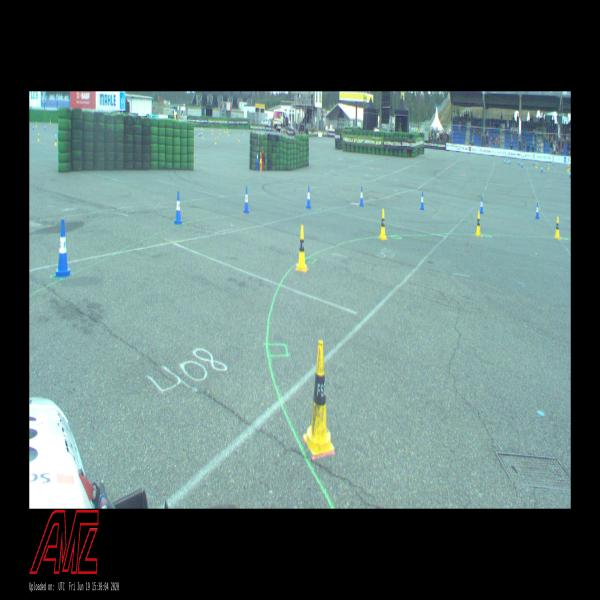blue_cone: (56, 220, 70, 277), (174, 191, 182, 224), (244, 187, 250, 213), (359, 186, 364, 205), (306, 186, 310, 208), (480, 196, 484, 214), (420, 192, 424, 210), (536, 202, 540, 219), (256, 151, 259, 164), (44, 124, 46, 130), (55, 132, 57, 138), (504, 158, 506, 163), (518, 160, 520, 165), (522, 160, 523, 167), (553, 159, 554, 165), (241, 128, 242, 134), (33, 126, 34, 131), (508, 159, 509, 164), (201, 131, 202, 136), (230, 129, 231, 133), (199, 132, 200, 136), (194, 131, 195, 134), (249, 130, 250, 133), (542, 165, 542, 172), (510, 159, 510, 164), (570, 170, 570, 178), (534, 160, 534, 165), (246, 130, 246, 134)
orange_cone: (220, 128, 221, 132)
yellow_cone: (307, 340, 331, 452), (297, 225, 307, 271), (379, 209, 387, 240), (476, 211, 482, 236), (554, 216, 560, 238), (260, 151, 262, 164), (55, 138, 57, 146), (238, 136, 240, 142), (568, 164, 570, 170), (202, 133, 204, 138), (536, 162, 538, 167), (38, 133, 39, 141), (226, 129, 228, 133), (548, 163, 549, 169), (215, 138, 216, 144), (218, 132, 219, 138), (50, 118, 51, 123), (224, 129, 225, 133), (244, 131, 245, 135), (228, 132, 229, 136), (568, 165, 568, 171), (536, 163, 536, 168), (36, 122, 36, 127), (212, 131, 212, 134), (220, 131, 220, 135), (202, 126, 202, 130), (213, 127, 213, 131)
